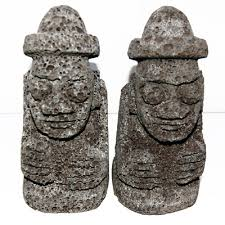Stone Statue: (111, 3, 213, 215), (14, 3, 112, 215)
